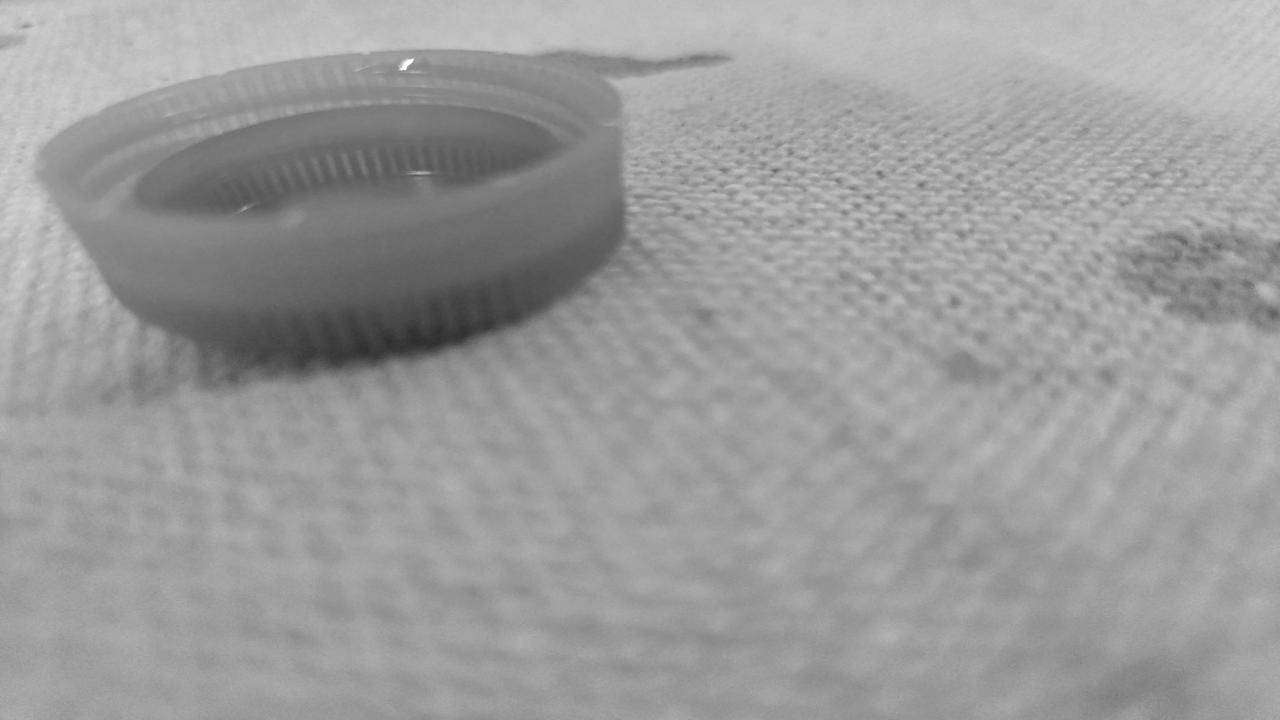bottle_cap: (34, 50, 620, 354)
